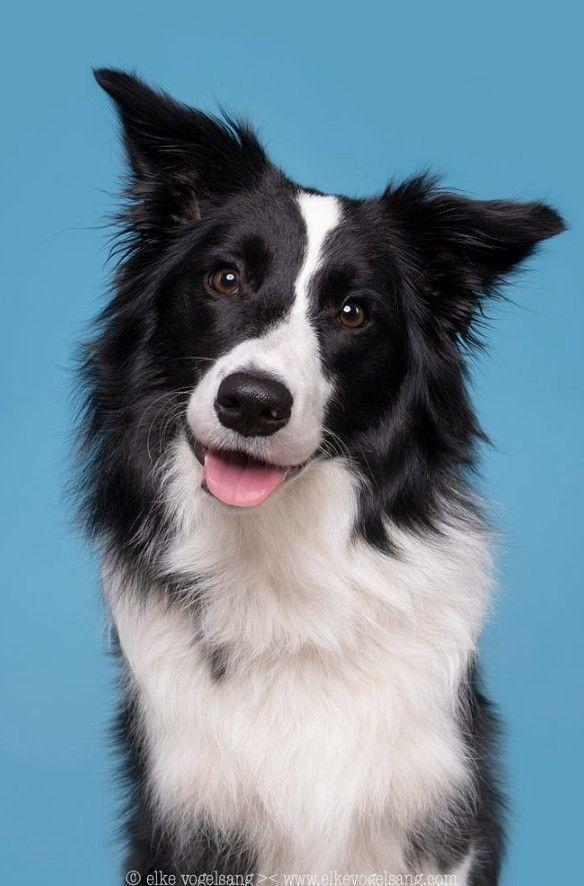adult_dog: (67, 57, 576, 886)
